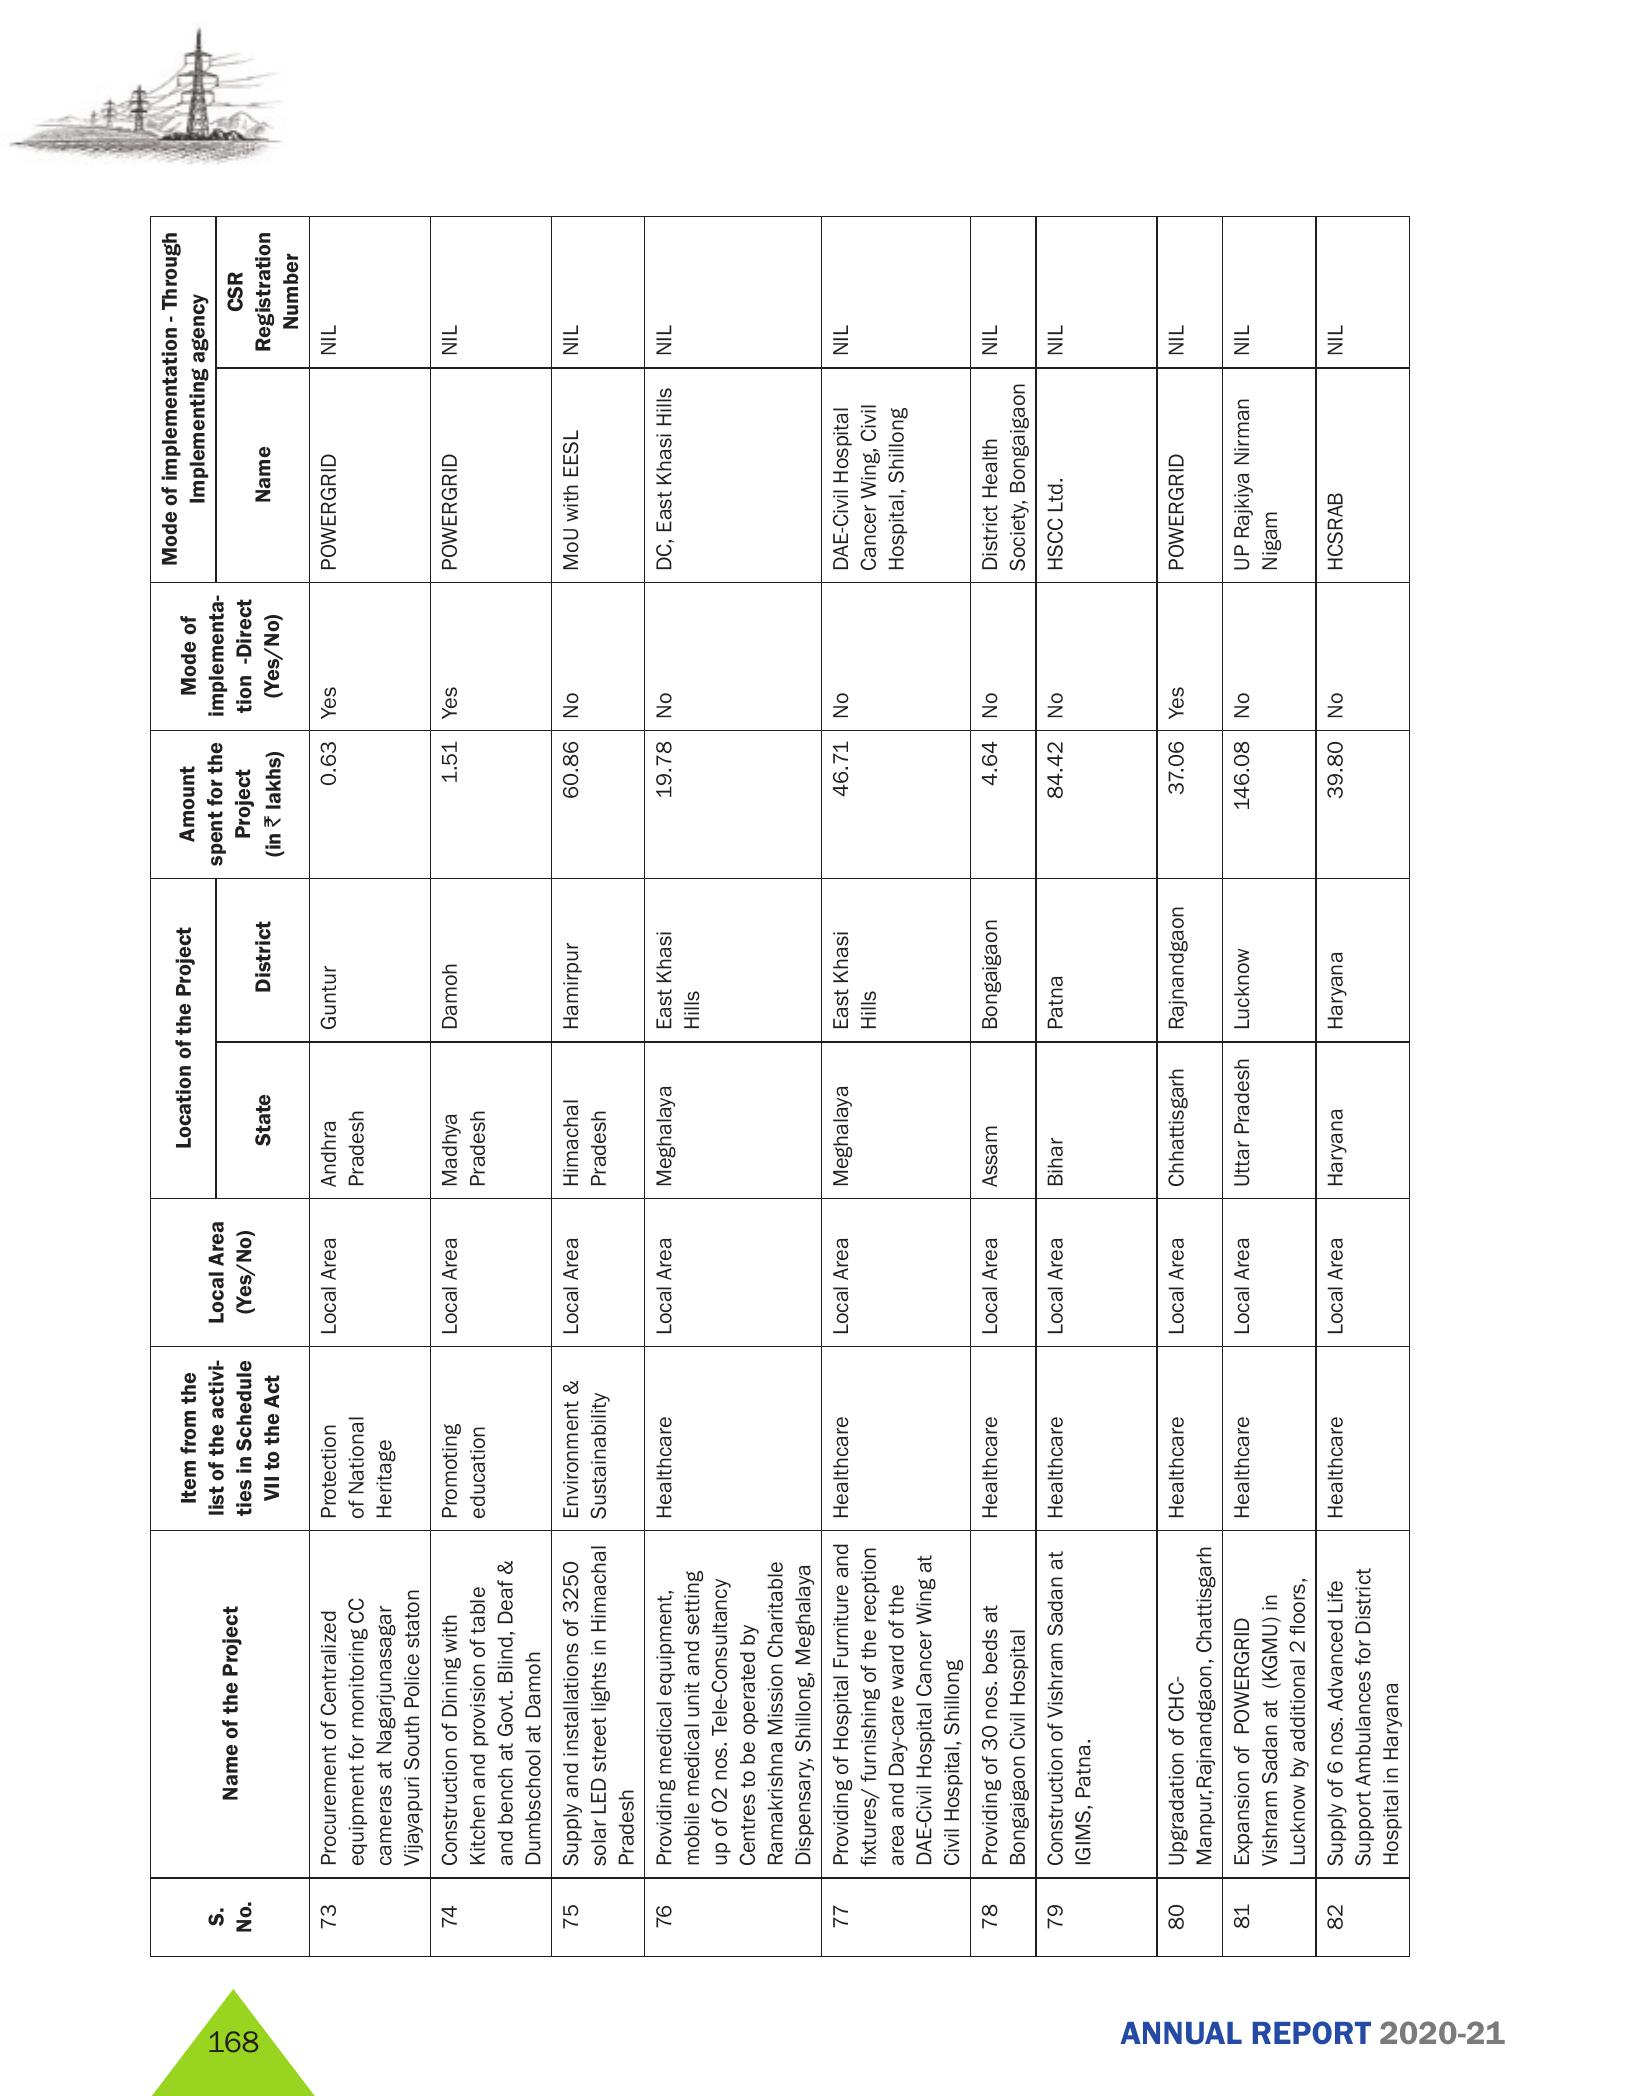Footer: (0, 1965, 1650, 2096)
Header: (0, 0, 1650, 189)
Table: (122, 213, 1483, 1956)
